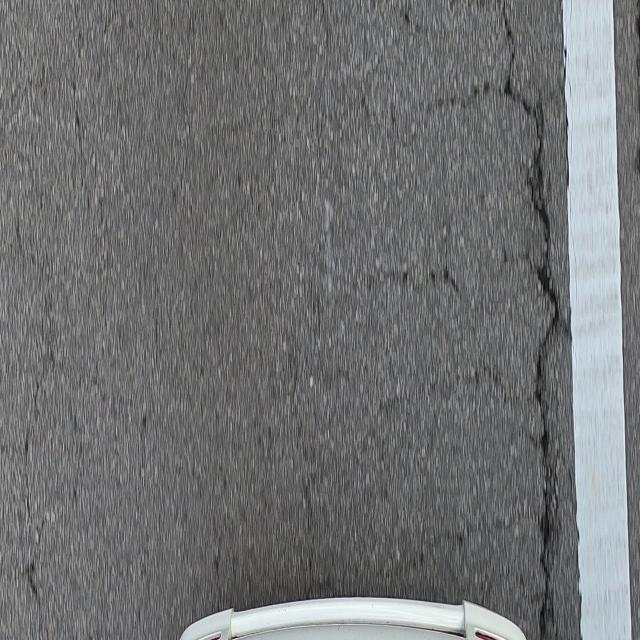Retak-Memanjang: (502, 1, 562, 636)
